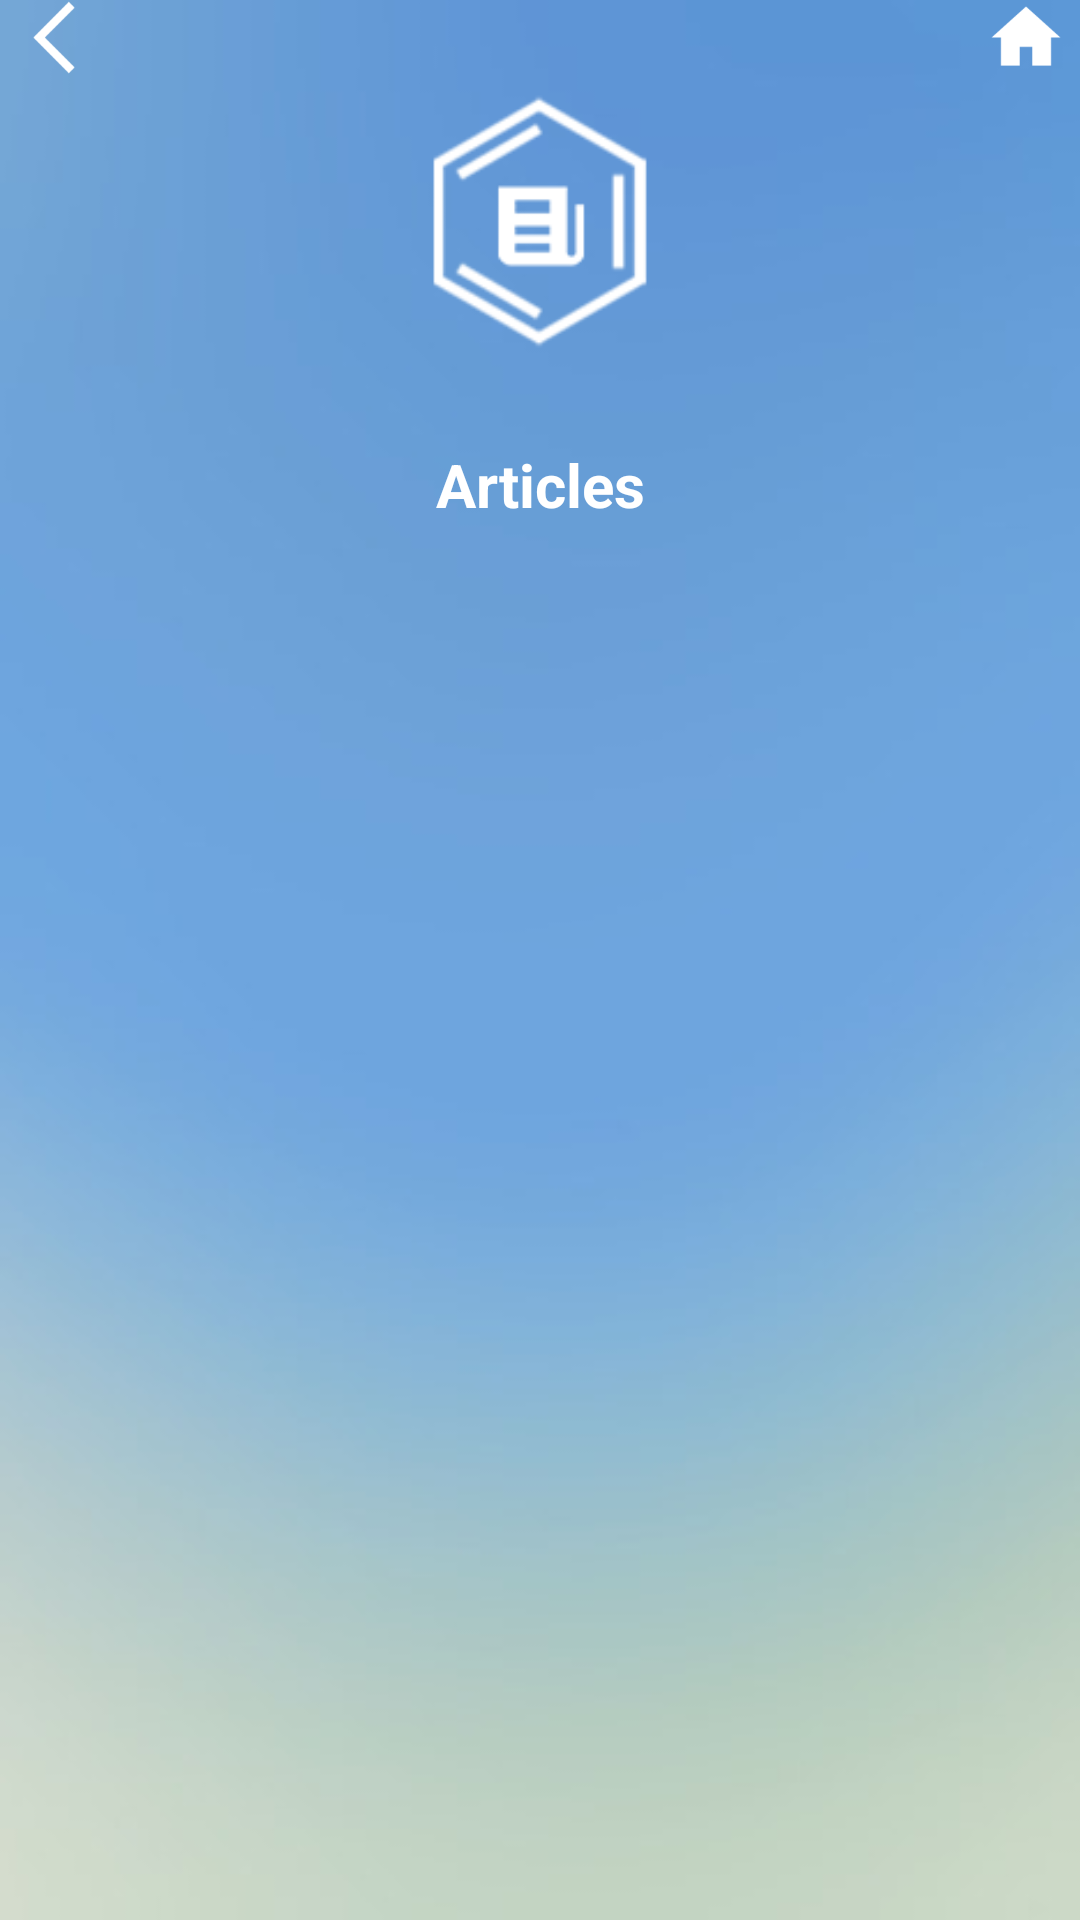

Screen size 1080x1920. Icon name, then its box in pixels as bbox=[x1, y1, x2, y2]:
back: bbox=[33, 2, 75, 73]
home: bbox=[992, 7, 1060, 66]
